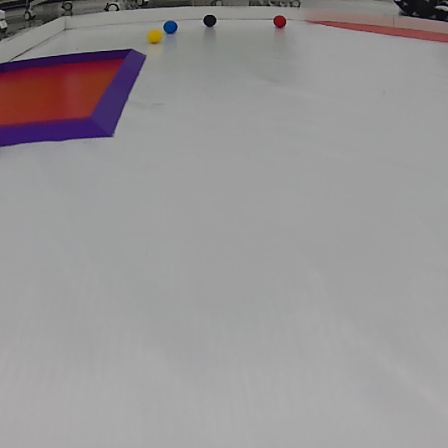black: (201, 13, 218, 30)
blue: (161, 18, 180, 32)
red: (272, 13, 289, 28)
red_aim: (0, 48, 149, 149)
red_base: (303, 18, 448, 47)
yellow: (145, 30, 166, 44)
